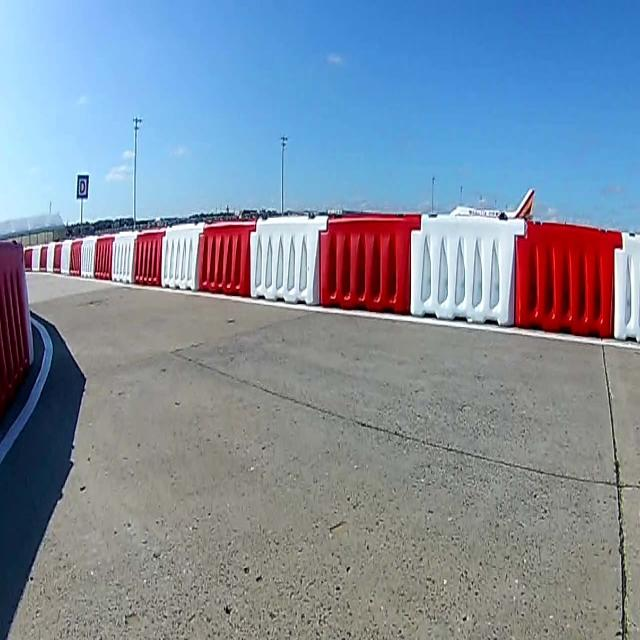durak: (76, 174, 88, 198)
